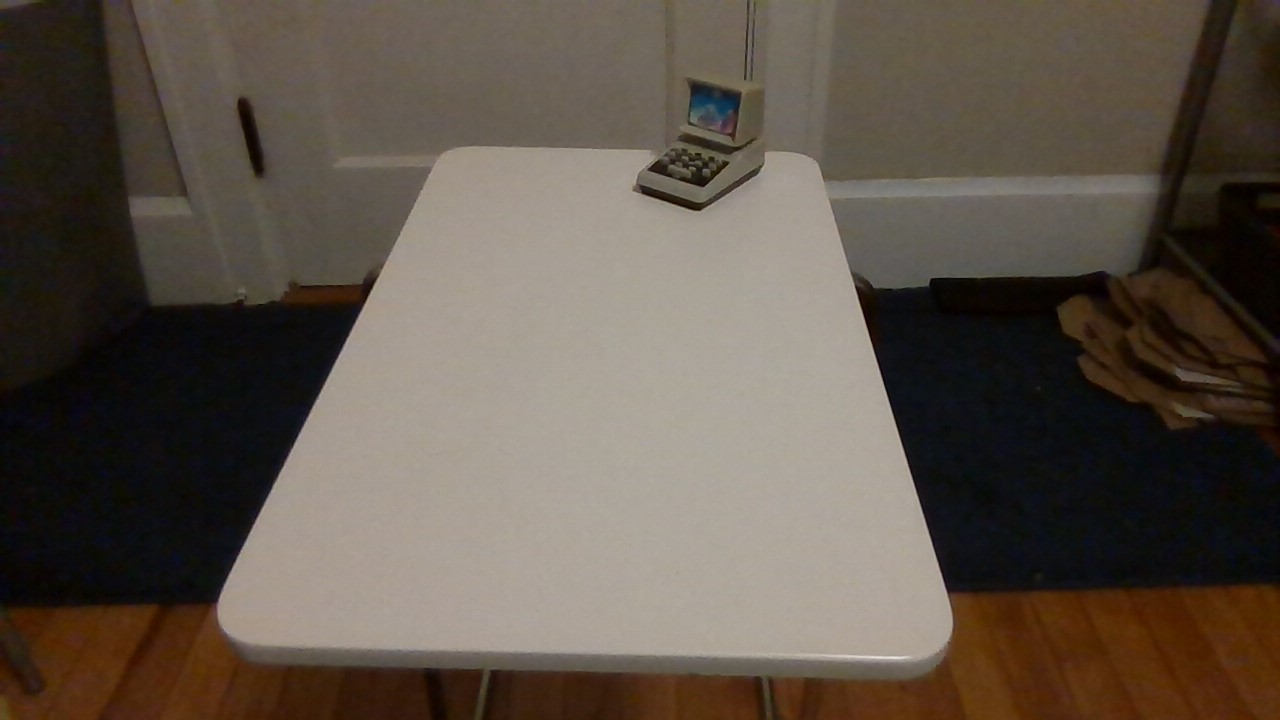Toy: (611, 48, 813, 217)
